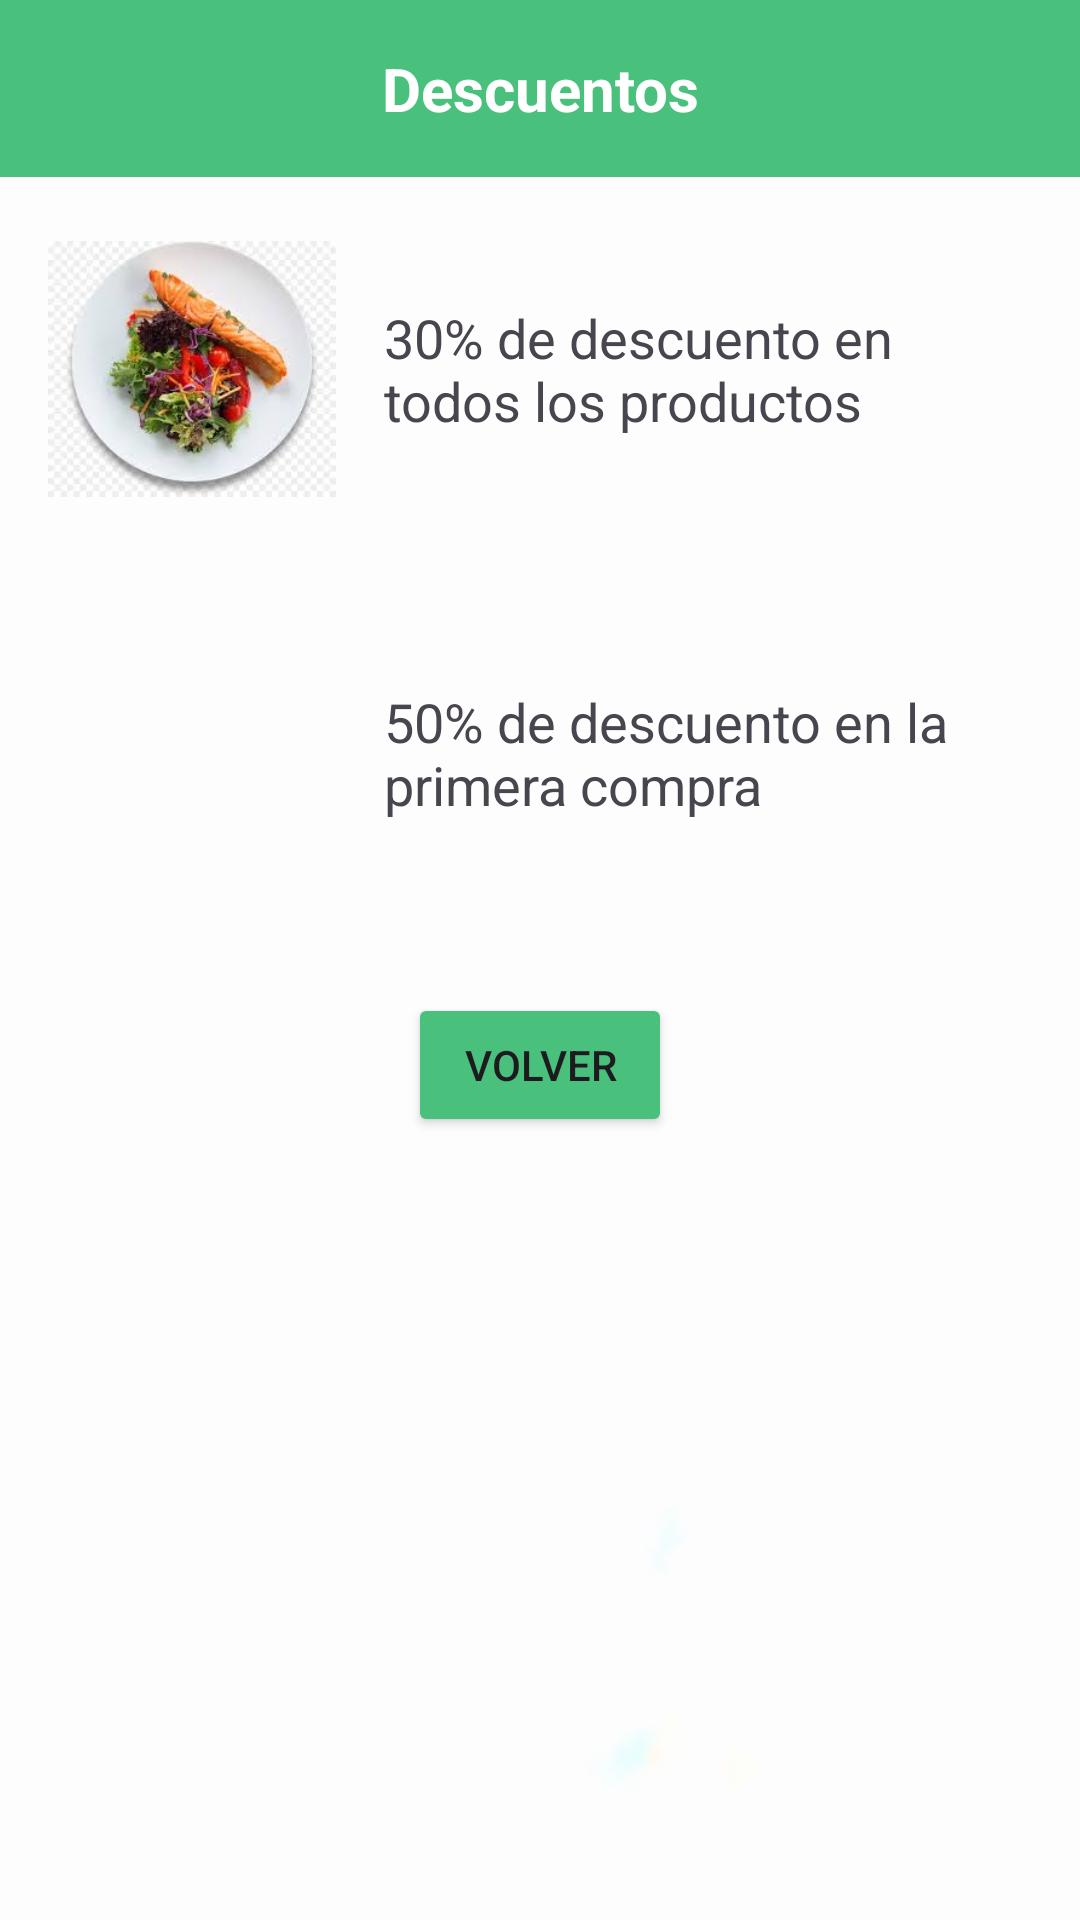

Screen size 1080px x 1920px. Icon name, then its box in pixels as {"left": x1, "top": y1, "right": x2, "bottom": y2}:
salad: {"left": 68, "top": 242, "right": 318, "bottom": 494}
